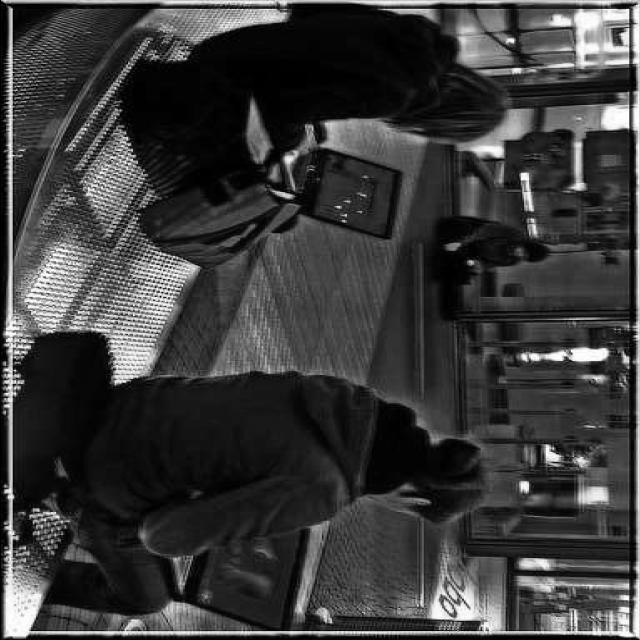laptop: (174, 532, 306, 619), (290, 158, 397, 240)
